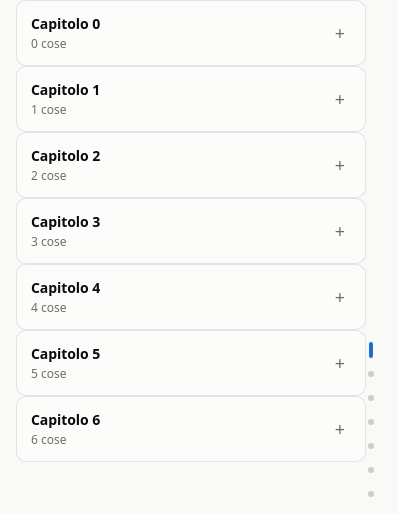
it: l’indice laterale › premere un punto mostra il nome del capitolo e il suo numero
The width and height of the screenshot is (398, 514).
Focus the button named "Capitolo 2" at (371, 398), box [358,386,384,410]
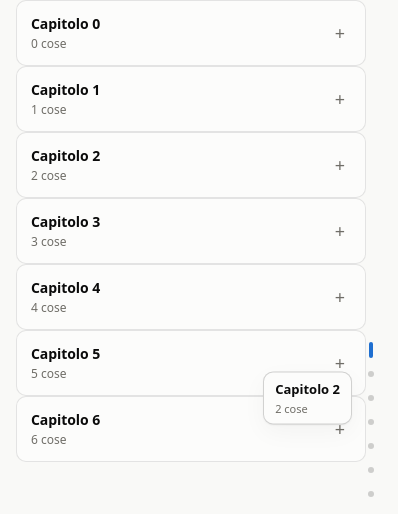
Now the element with class "navigatore-nome" shows "Capitolo 2", box [275,380,340,398]
Now the element with class "navigatore-nome" shows "2 cose", box [275,400,308,415]
